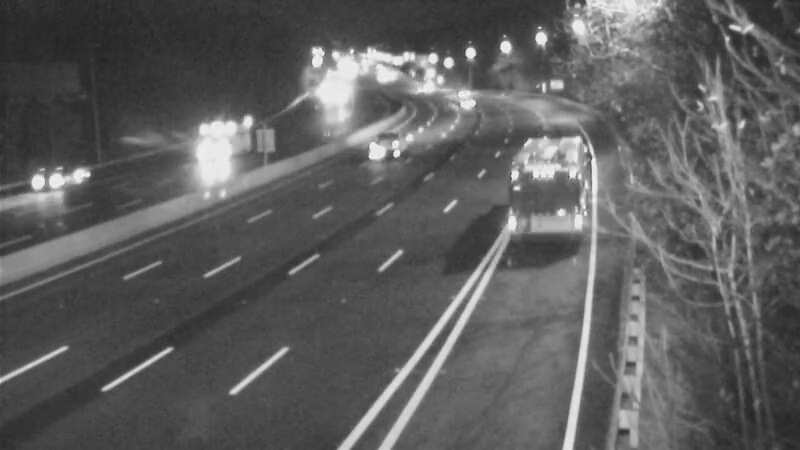vehicle: (503, 142, 583, 222), (15, 138, 95, 218), (394, 68, 444, 118), (431, 64, 481, 114), (448, 80, 498, 130), (356, 111, 406, 161), (201, 109, 251, 159)
